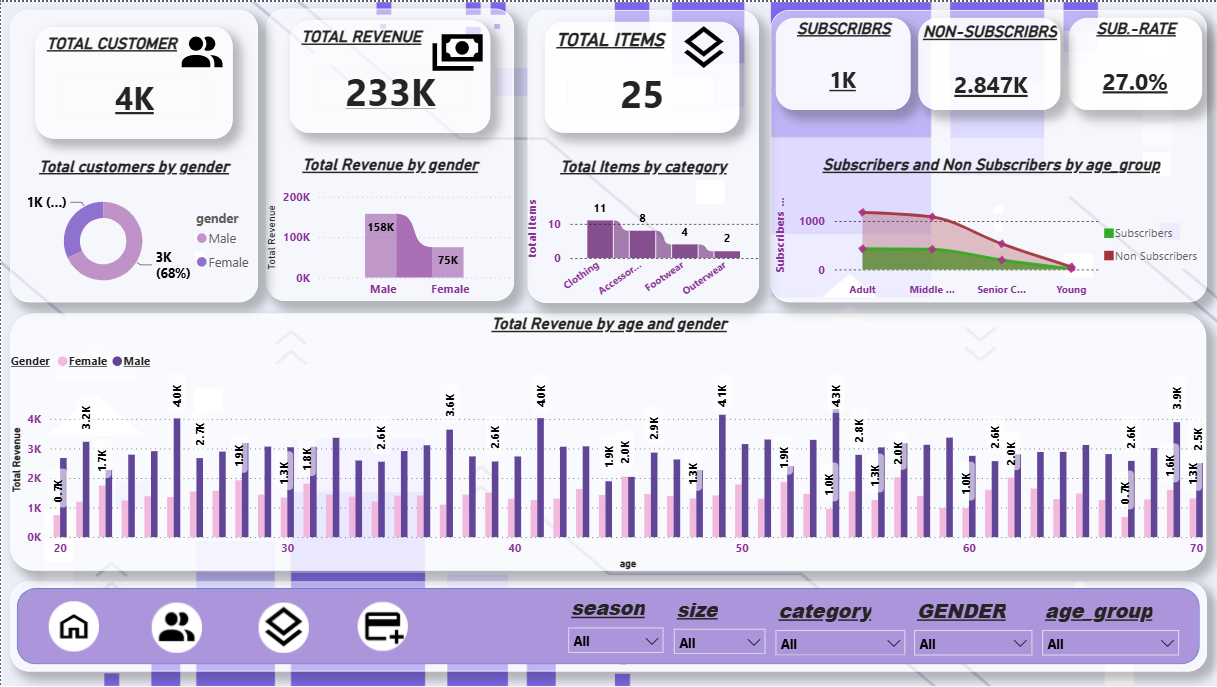

What the dashboard file says about the page in this screenshot:
{"tool":"powerbi","page":{"name":"Customer Analysis","canvas":[1280,720],"ordinal":1},"visuals":[{"type":"image","box":[0,0,1280,720],"z":0},{"type":"shape","box":[554.5,8.8,243.4,308.6],"z":0,"group":"g7"},{"type":"group","id":"g1","title":"Group 1","box":[35.5,26.3,207.9,117.1],"z":0,"group":"g11"},{"type":"cardVisual","title":"TOTAL REVENUE","fields":{"Data":["Customer.Total Revenue"]},"box":[303.5,18.4,210.5,118.2],"z":1000,"group":"g9"},{"type":"group","id":"g2","title":"Group 7","box":[572.1,21.3,204.5,116.7],"z":1000,"group":"g7"},{"type":"cardVisual","title":"TOTAL ITEMS","fields":{"Data":["Customer.total items"]},"box":[572.1,21.3,204.5,116.7],"z":1000,"group":"g10"},{"type":"image","box":[180.1,27.5,62.5,51.4],"z":1000,"group":"g11"},{"type":"shape","box":[9.6,609.6,1258.9,94.5],"z":1000},{"type":"cardVisual","title":"TOTAL CUSTOMER ","fields":{"Data":["Customer.Total customers"]},"box":[35.5,26.3,207.9,117.1],"z":2000,"group":"g1"},{"type":"columnChart","title":"Total Items by category","fields":{"Category":["Customer.category"],"Y":["Customer.total items"]},"box":[554.5,163.1,243.4,153.1],"z":2000,"group":"g7"},{"type":"actionButton","title":"home_A","box":[22.7,630.7,108.6,52.9],"z":2000},{"type":"actionButton","title":"home_A","box":[130.7,632,108.6,52.9],"z":3000},{"type":"group","id":"g3","title":"Group 3","box":[278.5,6.3,260.9,308.6],"z":4000},{"type":"group","id":"g4","title":"Group 5","box":[9.2,7.9,260.5,307.9],"z":5000},{"type":"shape","box":[9.2,7.9,260.5,307.9],"z":5000,"group":"g4"},{"type":"group","id":"g5","title":"Group 2","box":[35.5,26.3,207.9,117.1],"z":6000,"group":"g4"},{"type":"lineClusteredColumnComboChart","fields":{"Category":["Customer.age"],"Y":["Customer.Total Revenue"],"Series":["Customer.gender"]},"box":[9.3,328,1258.7,270.7],"z":6000},{"type":"shape","box":[278.5,6.3,260.5,307.9],"z":7000,"group":"g3"},{"type":"shape","box":[809.2,8.8,459.2,307.4],"z":7000},{"type":"group","id":"g6","title":"Group 4","box":[303.5,18.4,209.2,118.4],"z":7000,"group":"g8"},{"type":"group","id":"g7","title":"Group 6","box":[554.5,8.8,243.4,308.6],"z":8000},{"type":"group","id":"g8","title":"Group 16","box":[303.5,18.1,209.2,118.4],"z":8000,"group":"g3"},{"type":"ribbonChart","fields":{"Category":["Customer.gender"],"Y":["Customer.Total Revenue"]},"box":[278.5,160.2,260.5,153.9],"z":9000,"group":"g3"},{"type":"slicer","fields":{"Values":["Customer.age_group"]},"box":[1090.7,621.3,154.3,76.5],"z":9000},{"type":"donutChart","fields":{"Y":["Customer.Total customers"],"Category":["Customer.gender"]},"box":[9.2,161.8,260.5,143.4],"z":10000,"group":"g4"},{"type":"slicer","fields":{"Values":["Customer.gender"]},"box":[956,621.3,134.2,69],"z":10000},{"type":"cardVisual","title":"SUBSCRIBRS","fields":{"Data":["Customer.Subscribers"]},"box":[814.7,16,141.3,97.3],"z":11000},{"type":"image","box":[703.3,21.3,73.3,55.3],"z":11001,"group":"g10"},{"type":"group","id":"g9","title":"Group 13","box":[303.5,18.4,209.5,118.2],"z":11007,"group":"g6"},{"type":"group","id":"g10","title":"Group 15","box":[572.1,21.3,204.5,116.7],"z":11007,"group":"g2"},{"type":"group","id":"g11","title":"Group 14","box":[35.5,26.3,207.9,117.1],"z":11007,"group":"g5"},{"type":"slicer","fields":{"Values":["Customer.category"]},"box":[809.3,621.3,146.8,66.5],"z":12000},{"type":"slicer","fields":{"Values":["Customer.size"]},"box":[702.7,620,106.7,66.7],"z":13000},{"type":"cardVisual","title":"SUB.-RATE","fields":{"Data":["Customer.Subscription Rate"]},"box":[1124,16,140,97.3],"z":14000},{"type":"image","box":[448.2,18.1,63.4,57.3],"z":14001,"group":"g8"},{"type":"cardVisual","title":"NON-SUBSCRIBRS","fields":{"Data":["Customer.Non Subscribers"]},"box":[965.3,16,149.3,97.3],"z":15000},{"type":"areaChart","fields":{"Category":["Customer.age_group"],"Y":["Customer.Subscribers","Customer.Non Subscribers"]},"box":[814.7,161.3,453.3,152],"z":16000},{"type":"actionButton","title":"home_A","box":[242.7,632,108.6,52.9],"z":17000},{"type":"slicer","fields":{"Values":["Customer.season"]},"box":[592,618.7,110.7,74.7],"z":18000},{"type":"actionButton","title":"home_A","box":[346.8,631.2,108.6,52.9],"z":19000}]}

Visuals, with their boxes in screenshot pixels (x1, y1, x2, y2), scaled from the page's 1280x720 canvas onto the 1217x687 screenshot:
image: (left=0, top=0, right=1216, bottom=686)
shape: (left=527, top=8, right=759, bottom=303)
"Group 1" group: (left=34, top=25, right=231, bottom=137)
"TOTAL REVENUE" cardVisual: (left=289, top=18, right=489, bottom=130)
"Group 7" group: (left=544, top=20, right=738, bottom=132)
"TOTAL ITEMS" cardVisual: (left=544, top=20, right=738, bottom=132)
image: (left=171, top=26, right=231, bottom=75)
shape: (left=9, top=582, right=1206, bottom=672)
"TOTAL CUSTOMER " cardVisual: (left=34, top=25, right=231, bottom=137)
"Total Items by category" columnChart: (left=527, top=156, right=759, bottom=302)
"home_A" actionButton: (left=22, top=602, right=125, bottom=652)
"home_A" actionButton: (left=124, top=603, right=228, bottom=654)
"Group 3" group: (left=265, top=6, right=513, bottom=300)
"Group 5" group: (left=9, top=8, right=256, bottom=301)
shape: (left=9, top=8, right=256, bottom=301)
"Group 2" group: (left=34, top=25, right=231, bottom=137)
lineClusteredColumnComboChart - Customer.age x Customer.Total Revenue: (left=9, top=313, right=1206, bottom=571)
shape: (left=265, top=6, right=512, bottom=300)
shape: (left=769, top=8, right=1206, bottom=302)
"Group 4" group: (left=289, top=18, right=487, bottom=131)
"Group 6" group: (left=527, top=8, right=759, bottom=303)
"Group 16" group: (left=289, top=17, right=487, bottom=130)
ribbonChart - Customer.gender x Customer.Total Revenue: (left=265, top=153, right=512, bottom=300)
slicer - Customer.age_group: (left=1037, top=593, right=1184, bottom=666)
donutChart - Customer.Total customers x Customer.gender: (left=9, top=154, right=256, bottom=291)
slicer - Customer.gender: (left=909, top=593, right=1037, bottom=659)
"SUBSCRIBRS" cardVisual: (left=775, top=15, right=909, bottom=108)
image: (left=669, top=20, right=738, bottom=73)
"Group 13" group: (left=289, top=18, right=488, bottom=130)
"Group 15" group: (left=544, top=20, right=738, bottom=132)
"Group 14" group: (left=34, top=25, right=231, bottom=137)
slicer - Customer.category: (left=769, top=593, right=909, bottom=656)
slicer - Customer.size: (left=668, top=592, right=770, bottom=655)
"SUB.-RATE" cardVisual: (left=1069, top=15, right=1202, bottom=108)
image: (left=426, top=17, right=486, bottom=72)
"NON-SUBSCRIBRS" cardVisual: (left=918, top=15, right=1060, bottom=108)
areaChart - Customer.age_group x Customer.Subscribers: (left=775, top=154, right=1206, bottom=299)
"home_A" actionButton: (left=231, top=603, right=334, bottom=654)
slicer - Customer.season: (left=563, top=590, right=668, bottom=662)
"home_A" actionButton: (left=330, top=602, right=433, bottom=653)
